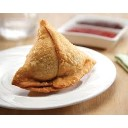samosa: (13, 18, 96, 86)
